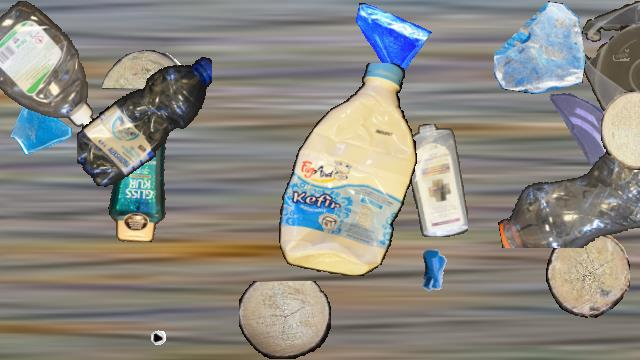glass: (494, 1, 586, 93), (545, 89, 629, 173), (350, 1, 432, 83), (9, 94, 75, 160)
metal: (404, 241, 466, 303), (113, 290, 173, 350)
plastic: (275, 63, 417, 275), (493, 108, 640, 248), (77, 50, 211, 190), (0, 1, 95, 131), (104, 99, 176, 241), (580, 1, 640, 133), (407, 124, 467, 236)
wood: (546, 232, 630, 318), (239, 281, 331, 359), (102, 50, 186, 88), (601, 91, 640, 169)
